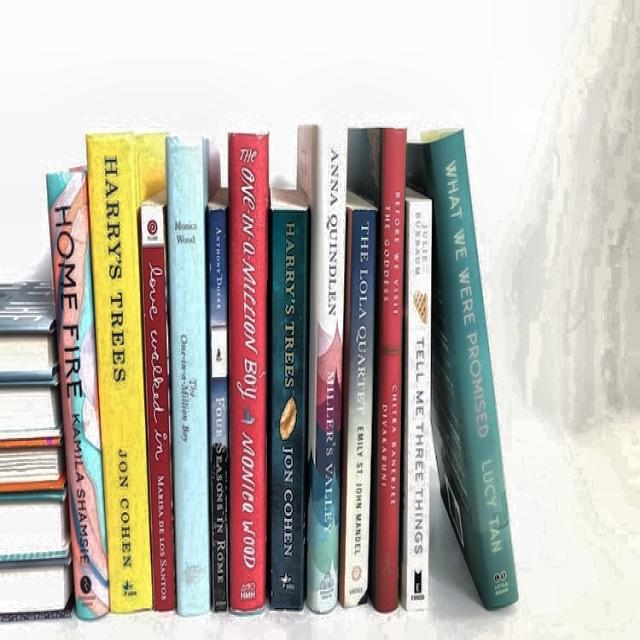Books: (406, 132, 518, 609), (86, 132, 166, 613), (46, 167, 109, 619), (348, 128, 406, 611), (298, 126, 348, 611), (166, 139, 211, 615), (229, 132, 269, 611), (269, 190, 309, 609), (340, 192, 378, 607), (140, 192, 175, 609), (400, 188, 432, 609), (208, 190, 229, 610), (0, 488, 70, 561), (0, 557, 74, 621), (0, 385, 60, 433), (0, 333, 58, 380), (0, 447, 65, 483)
